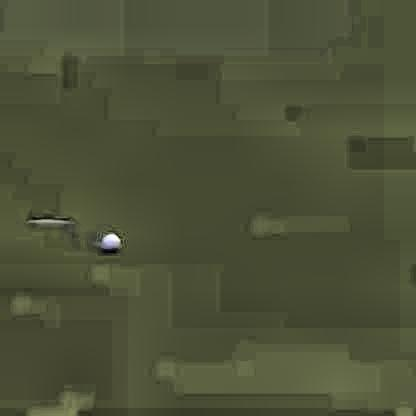golfball: (99, 231, 119, 251)
